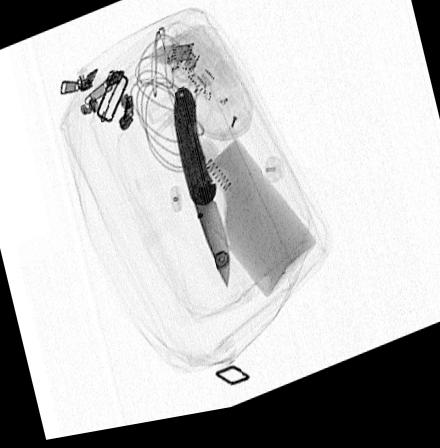Knife: (172, 90, 229, 301)
